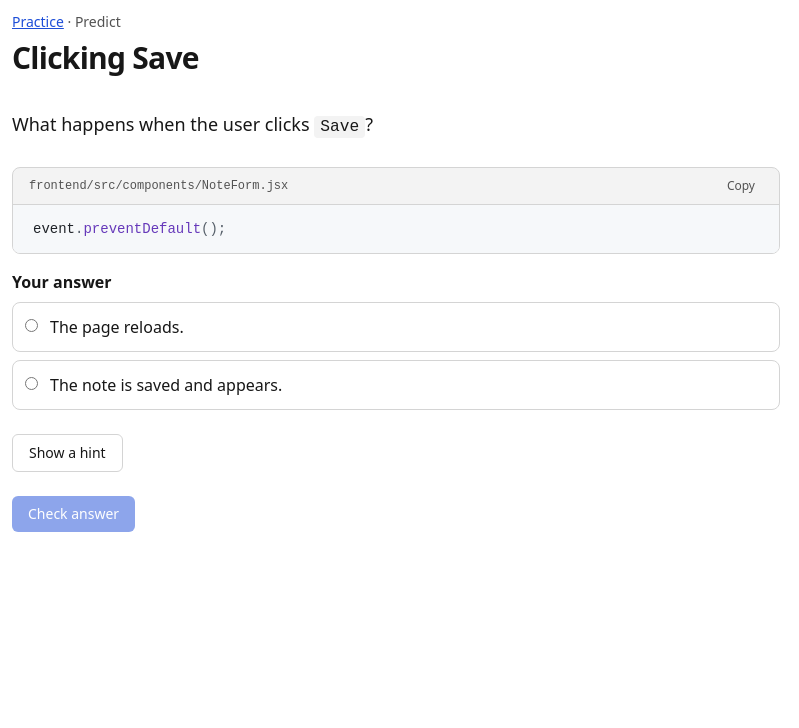
ExercisePage › only says 'Not quite' for a wrong answer until the learner asks for the answer
This screenshot has width=799, height=728.
Click the radio button labelled "The page reloads." at {"x": 32, "y": 326}, box [25,319,38,332]
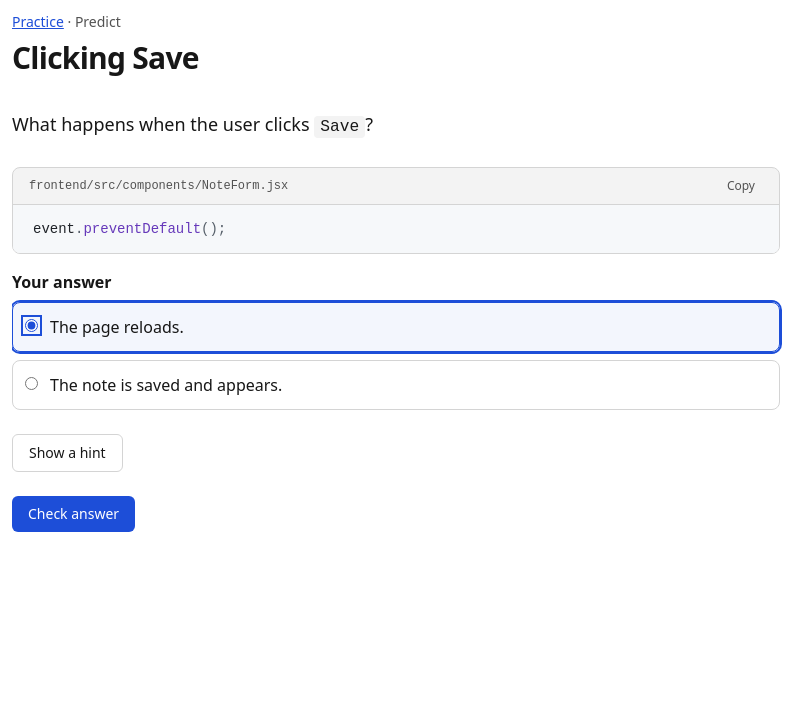
Click the button "Check answer" at {"x": 74, "y": 514}, box [12,496,135,532]
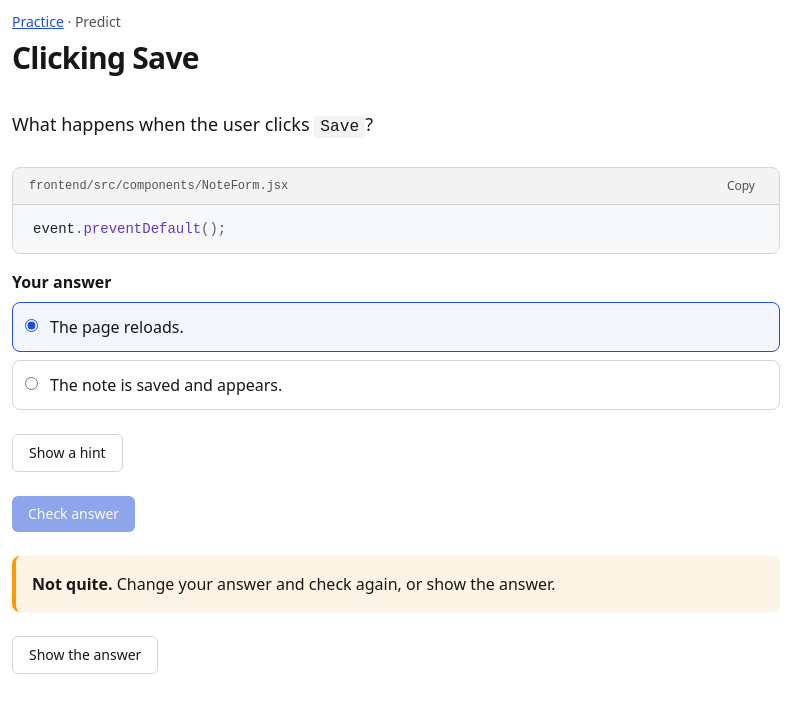
Expected: the text "stops the reload" is not shown
Result: the text "Not quite." is shown at [32,573,112,595]
Result: the button "Check answer" is disabled at [12,496,135,532]
# Changing the answer allows checking again.
Click the radio button labelled "The note is saved and appears." at {"x": 32, "y": 384}, box [25,377,38,390]
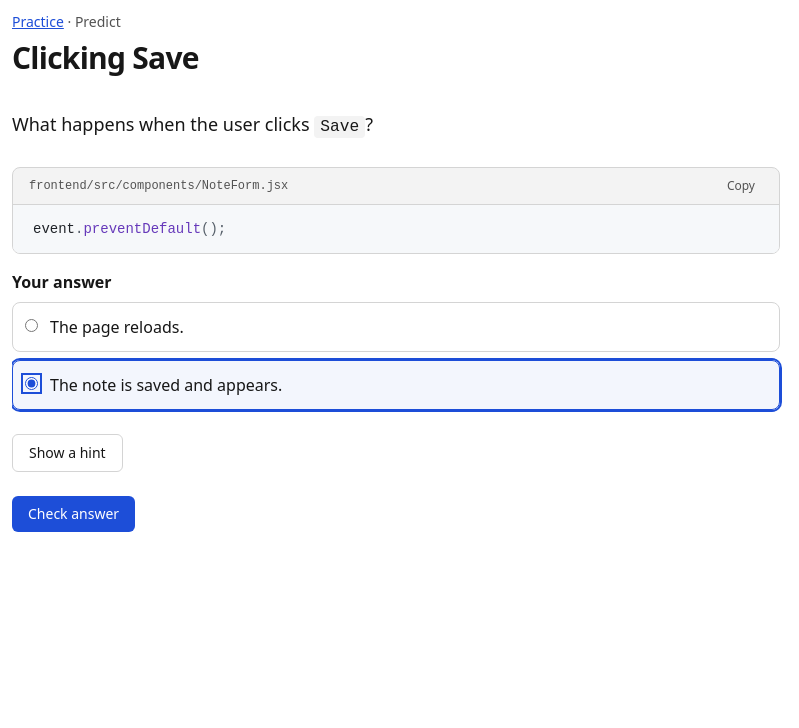
Click the radio button labelled "The page reloads." at {"x": 32, "y": 326}, box [25,319,38,332]
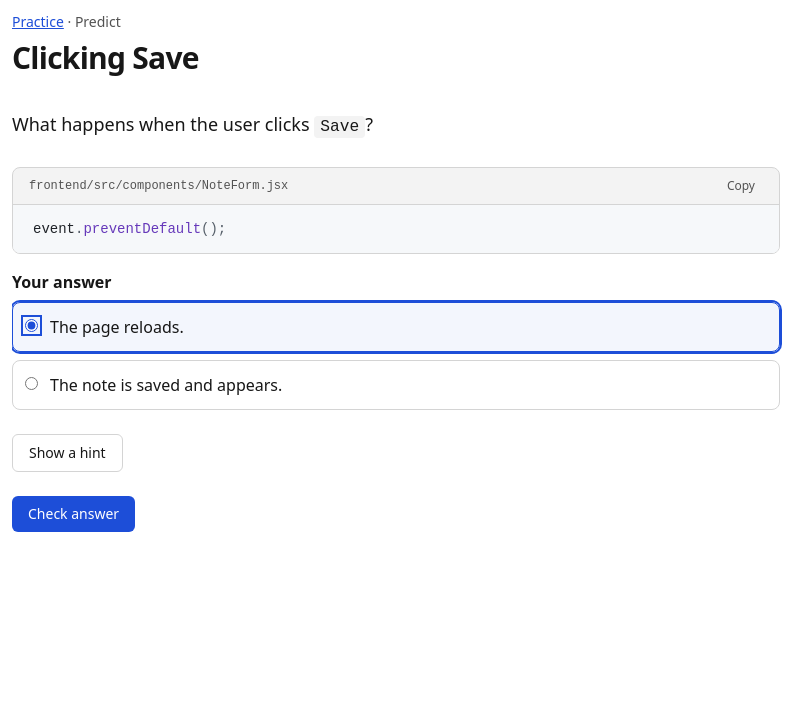
Click the button "Check answer" at {"x": 74, "y": 514}, box [12,496,135,532]
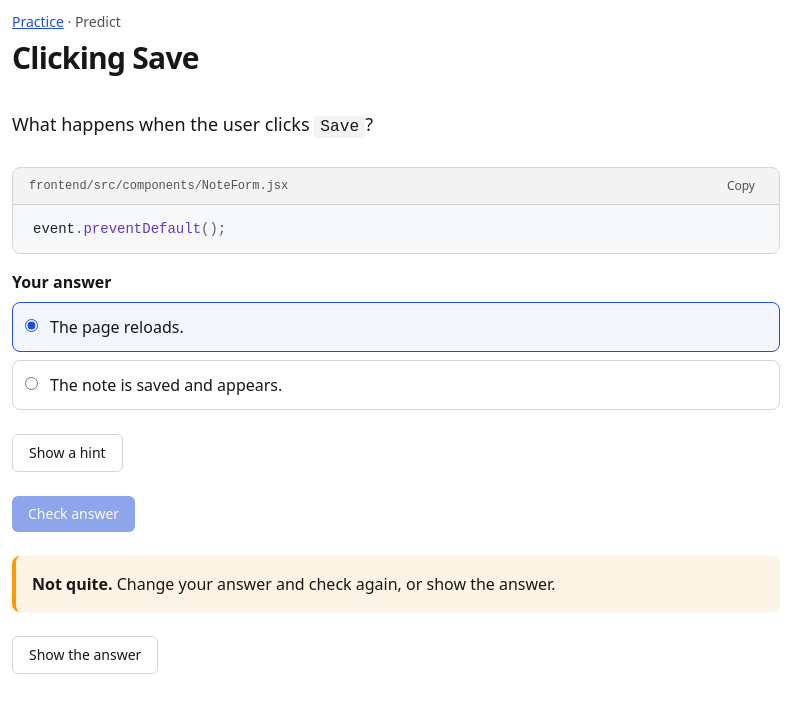
Click the button "Show the answer" at {"x": 85, "y": 655}, box [12,636,158,674]
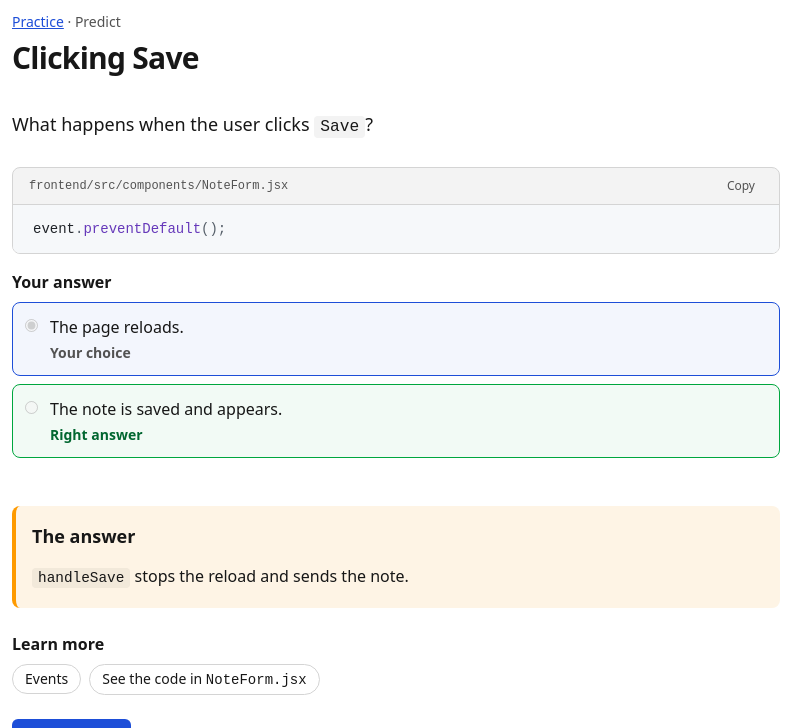
Result: the heading "The answer" is shown at [32,524,135,548]
Result: the text "handleSave stops the reload and sends the note." is shown at [32,565,409,588]
Result: the text "Right answer" is shown at [50,425,142,444]
